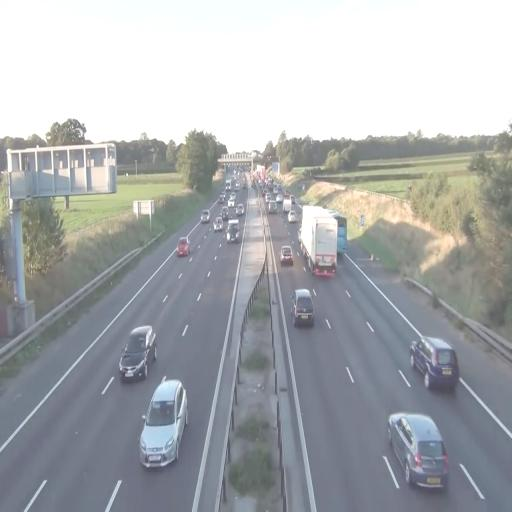vehicle: (386, 411, 450, 491), (138, 377, 188, 469), (409, 336, 460, 393), (300, 205, 338, 278), (300, 205, 338, 277), (118, 325, 158, 382), (292, 288, 314, 329), (284, 200, 302, 223), (280, 245, 294, 268), (226, 219, 240, 242), (176, 238, 190, 258)
